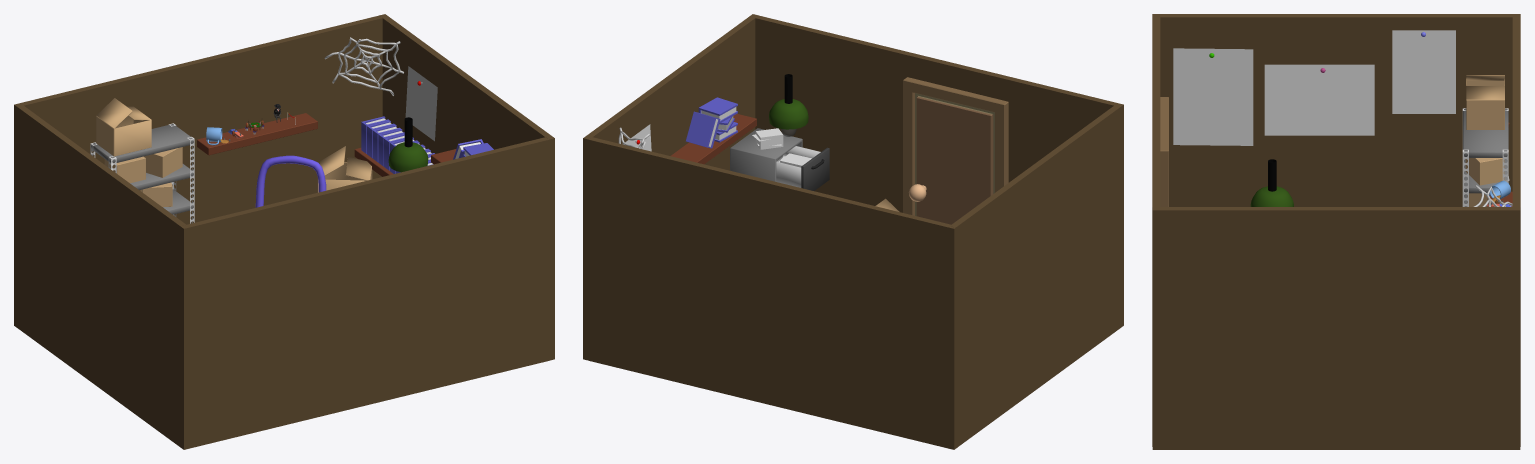
The model's file is кладовка.fbx.
3 renders of one model, left to right at view 1: azimuth 30°, elevation 25°; view 2: azimuth 150°, elevation 25°; view 3: azimuth 270°, elevation 25°, orthographic. The views are drawn at different scales.
Visible parts, largest first — view 1: Walls1, Walls2, Cube.001, Cube.002, Cube.008, Cube.097, Plane.071, Cube.012, Cube.009, Cylinder, Cube.003; view 2: Walls2, Walls1, Cube.107, Cube.041, Crates, Cylinder, Cube.006, Cube.101, Cube.102, Cube.093; view 3: Walls2, Walls1, Plane.063, Plane.061, Plane.062, Cube.001, Cube.002, Cube.107, Cylinder.
Part boxes in pixels (x1,y1,x2,y2): Walls1: (16, 104, 549, 449); Walls2: (14, 14, 554, 360); Cube.001: (90, 123, 194, 223); Cube.002: (96, 98, 151, 156); Cube.008: (197, 113, 317, 155); Cube.097: (361, 116, 434, 173); Plane.071: (405, 66, 437, 141); Cube.012: (324, 37, 403, 95); Cube.009: (317, 146, 372, 192); Cylinder: (388, 117, 428, 172); Cube.003: (255, 155, 326, 207); Walls2: (583, 14, 957, 449); Walls1: (755, 15, 1123, 446); Cube.107: (903, 77, 1008, 224); Cube.041: (730, 128, 802, 181); Crates: (776, 146, 829, 190); Cylinder: (769, 74, 808, 129); Cube.006: (670, 114, 756, 164); Cube.101: (686, 111, 720, 148); Cube.102: (698, 97, 737, 123); Cube.093: (752, 128, 783, 149); Walls2: (1152, 14, 1520, 449); Walls1: (1152, 14, 1516, 446); Plane.063: (1264, 64, 1374, 135); Plane.061: (1173, 48, 1253, 145); Plane.062: (1392, 30, 1455, 113); Cube.001: (1462, 108, 1509, 206); Cube.002: (1466, 75, 1504, 129); Cube.107: (1160, 97, 1168, 206); Cylinder: (1250, 159, 1293, 206).
Bounding box in the file's own units: 501 × 286 × 397.
